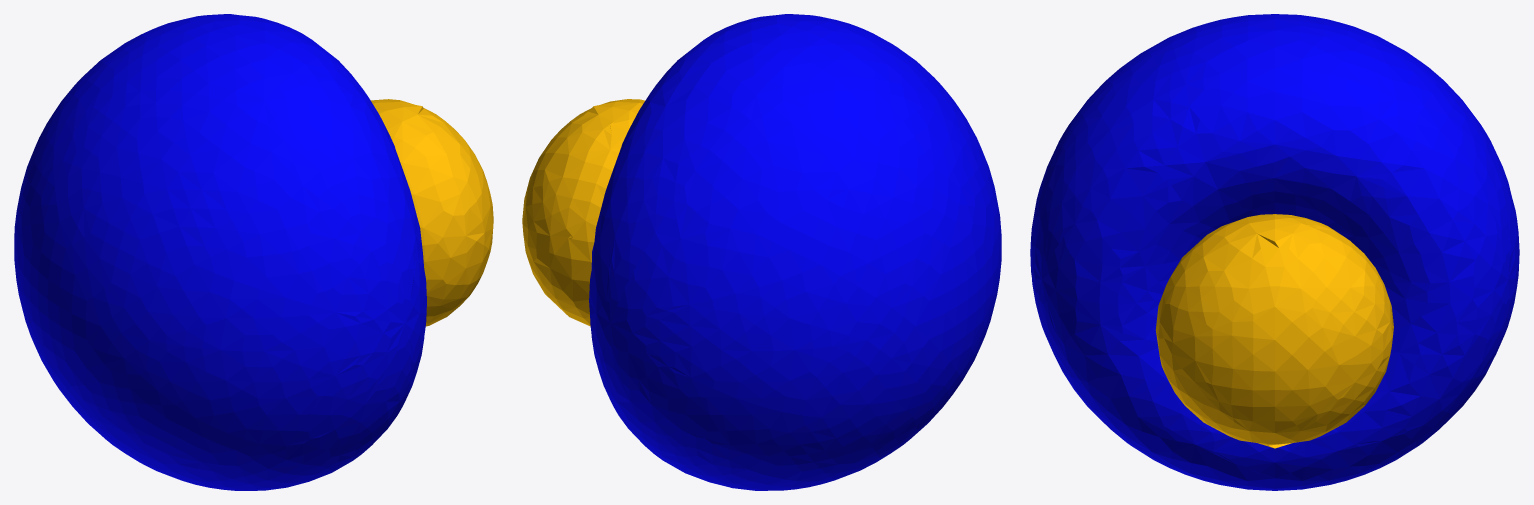
The picture shows the model from 3 angles, left to right: view 1: azimuth 30°, elevation 25°; view 2: azimuth 150°, elevation 25°; view 3: azimuth 270°, elevation 25°; orthographic projection.
Size of the model in its own units: 12.33 by 11.98 by 11.98.
